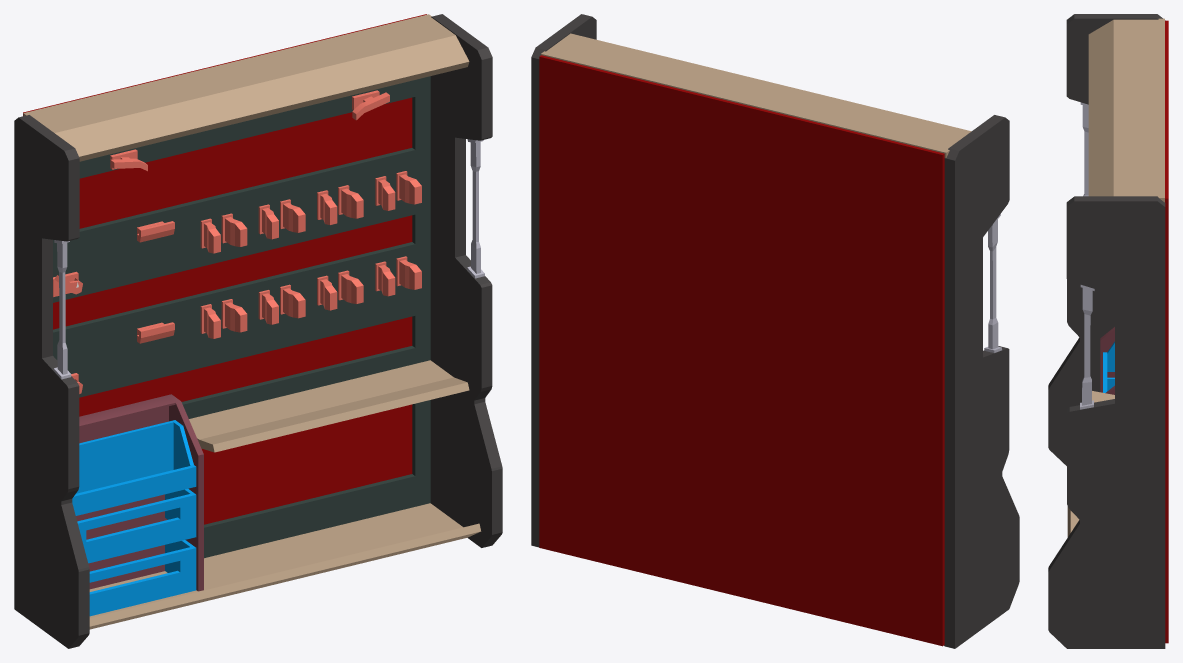
File: RackLowPoly001.fbx
The picture shows the model from 3 angles, left to right: view 1: azimuth 30°, elevation 25°; view 2: azimuth 150°, elevation 25°; view 3: azimuth 270°, elevation 25°; orthographic projection. The views are drawn at different scales.
Visible parts, largest first — view 1: RackLowPoly001; view 2: RackLowPoly001; view 3: RackLowPoly001.
Boxes of the visible parts, left/top/right/bottom form: RackLowPoly001: left=14, top=14, right=502, bottom=648; RackLowPoly001: left=531, top=14, right=1019, bottom=648; RackLowPoly001: left=1048, top=14, right=1168, bottom=648.
Bounding box in the file's own units: 68.49 × 76.41 × 18.59.
